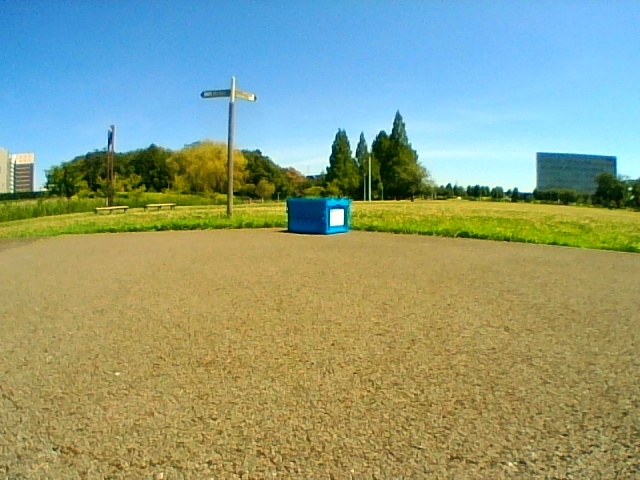blue_box: (288, 199, 349, 234)
tag: (330, 208, 344, 225)
